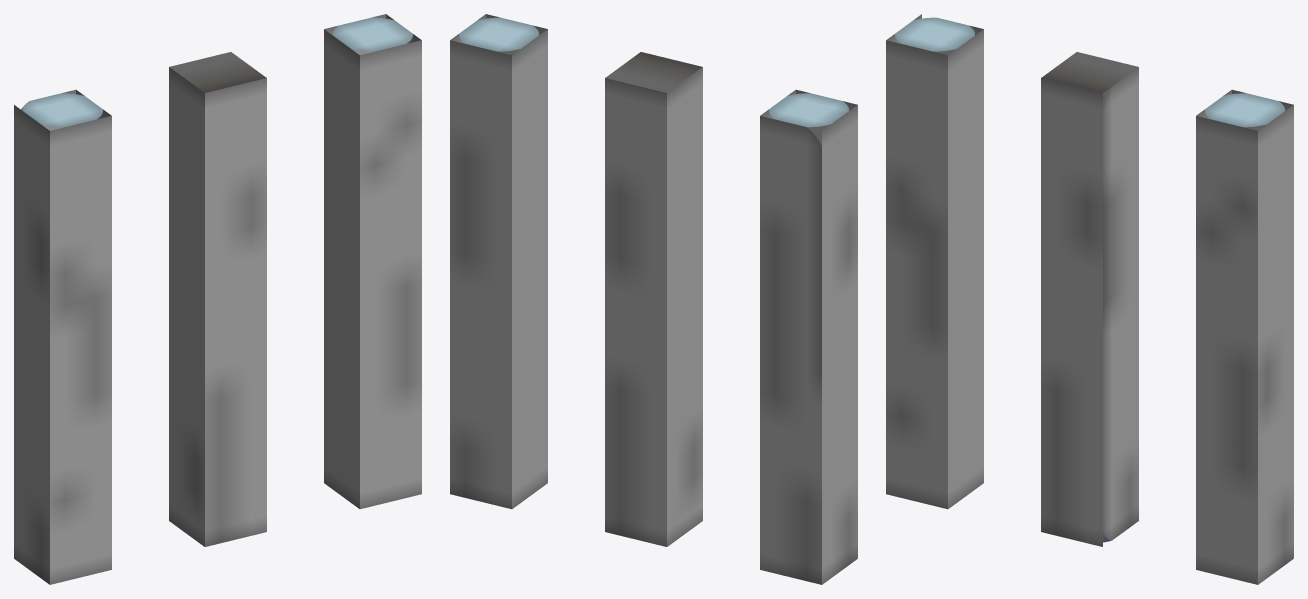
File: Bars.fbx
3 views of the same model, side by side, from view 1: azimuth 30°, elevation 25°; view 2: azimuth 150°, elevation 25°; view 3: azimuth 330°, elevation 25° (orthographic).
Parts seen in each view (by area): view 1: Bar2, Bar1, Bar3; view 2: Bar2, Bar3, Bar1; view 3: Bar2, Bar1, Bar3.
Part boxes in pixels (<box>): Bar2: <box>324,14,421,509</box>; Bar1: <box>169,52,266,546</box>; Bar3: <box>14,89,111,584</box>; Bar2: <box>450,14,547,509</box>; Bar3: <box>760,89,857,584</box>; Bar1: <box>605,52,702,546</box>; Bar2: <box>1196,89,1293,584</box>; Bar1: <box>1041,52,1138,546</box>; Bar3: <box>886,14,983,509</box>.
Bounding box in the file's own units: 75 × 87.5 × 12.5.
1 material, 1 textured.
